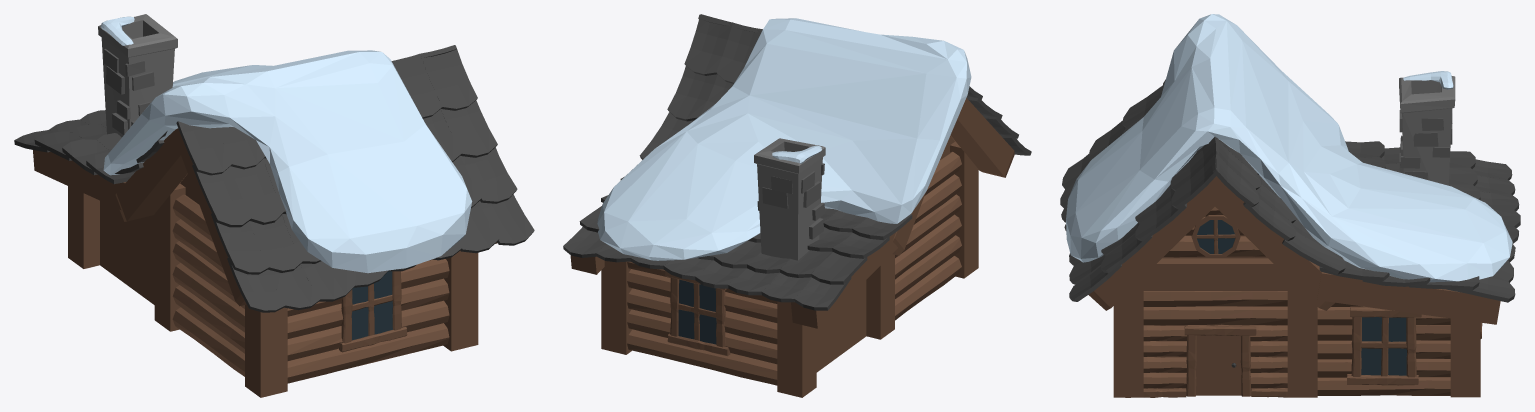
The model's file is house_type_2.glb.
The picture shows the model from 3 angles, left to right: view 1: azimuth 30°, elevation 25°; view 2: azimuth 150°, elevation 25°; view 3: azimuth 270°, elevation 25°; orthographic projection. The views are drawn at different scales.
Visible parts, largest first — view 1: house_type_2; view 2: house_type_2; view 3: house_type_2.
Boxes of the visible parts, x1,y1,x2,y2 form: house_type_2: [14, 14, 534, 397]; house_type_2: [563, 14, 1031, 397]; house_type_2: [1060, 14, 1520, 397].
Bounding box in the file's own units: 4.52 × 4.09 × 6.21.
